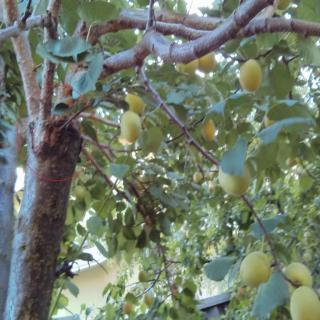Apple: (282, 262, 313, 306), (118, 104, 145, 148), (289, 285, 320, 319), (240, 251, 270, 286), (238, 58, 262, 92), (262, 112, 286, 134), (178, 58, 198, 81), (200, 52, 217, 74), (201, 117, 215, 141), (137, 268, 147, 284), (122, 300, 132, 315), (136, 177, 146, 189), (278, 0, 290, 10), (144, 290, 152, 304), (75, 186, 83, 199), (192, 154, 202, 163), (192, 170, 200, 180), (287, 159, 295, 169), (204, 171, 212, 179), (208, 182, 214, 192)
